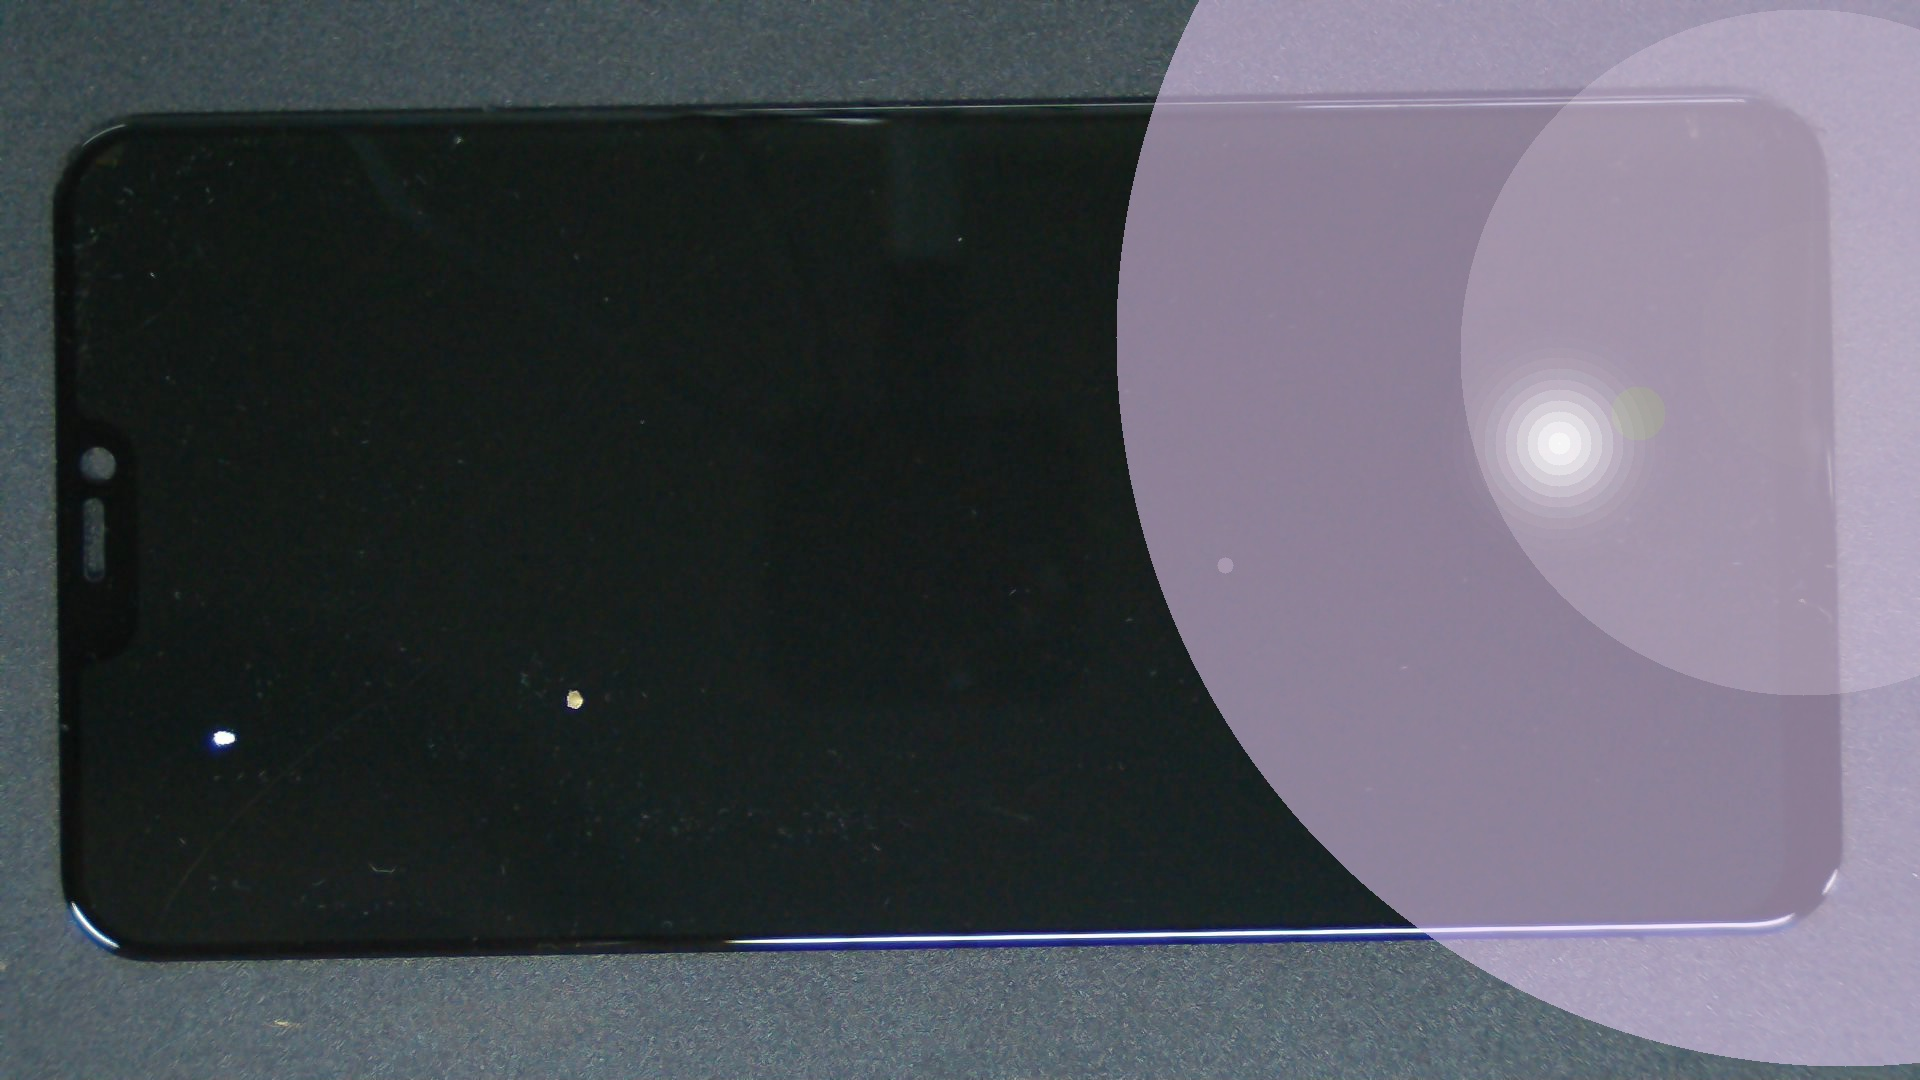oil: (285, 344, 852, 1034), (111, 364, 331, 1080)
